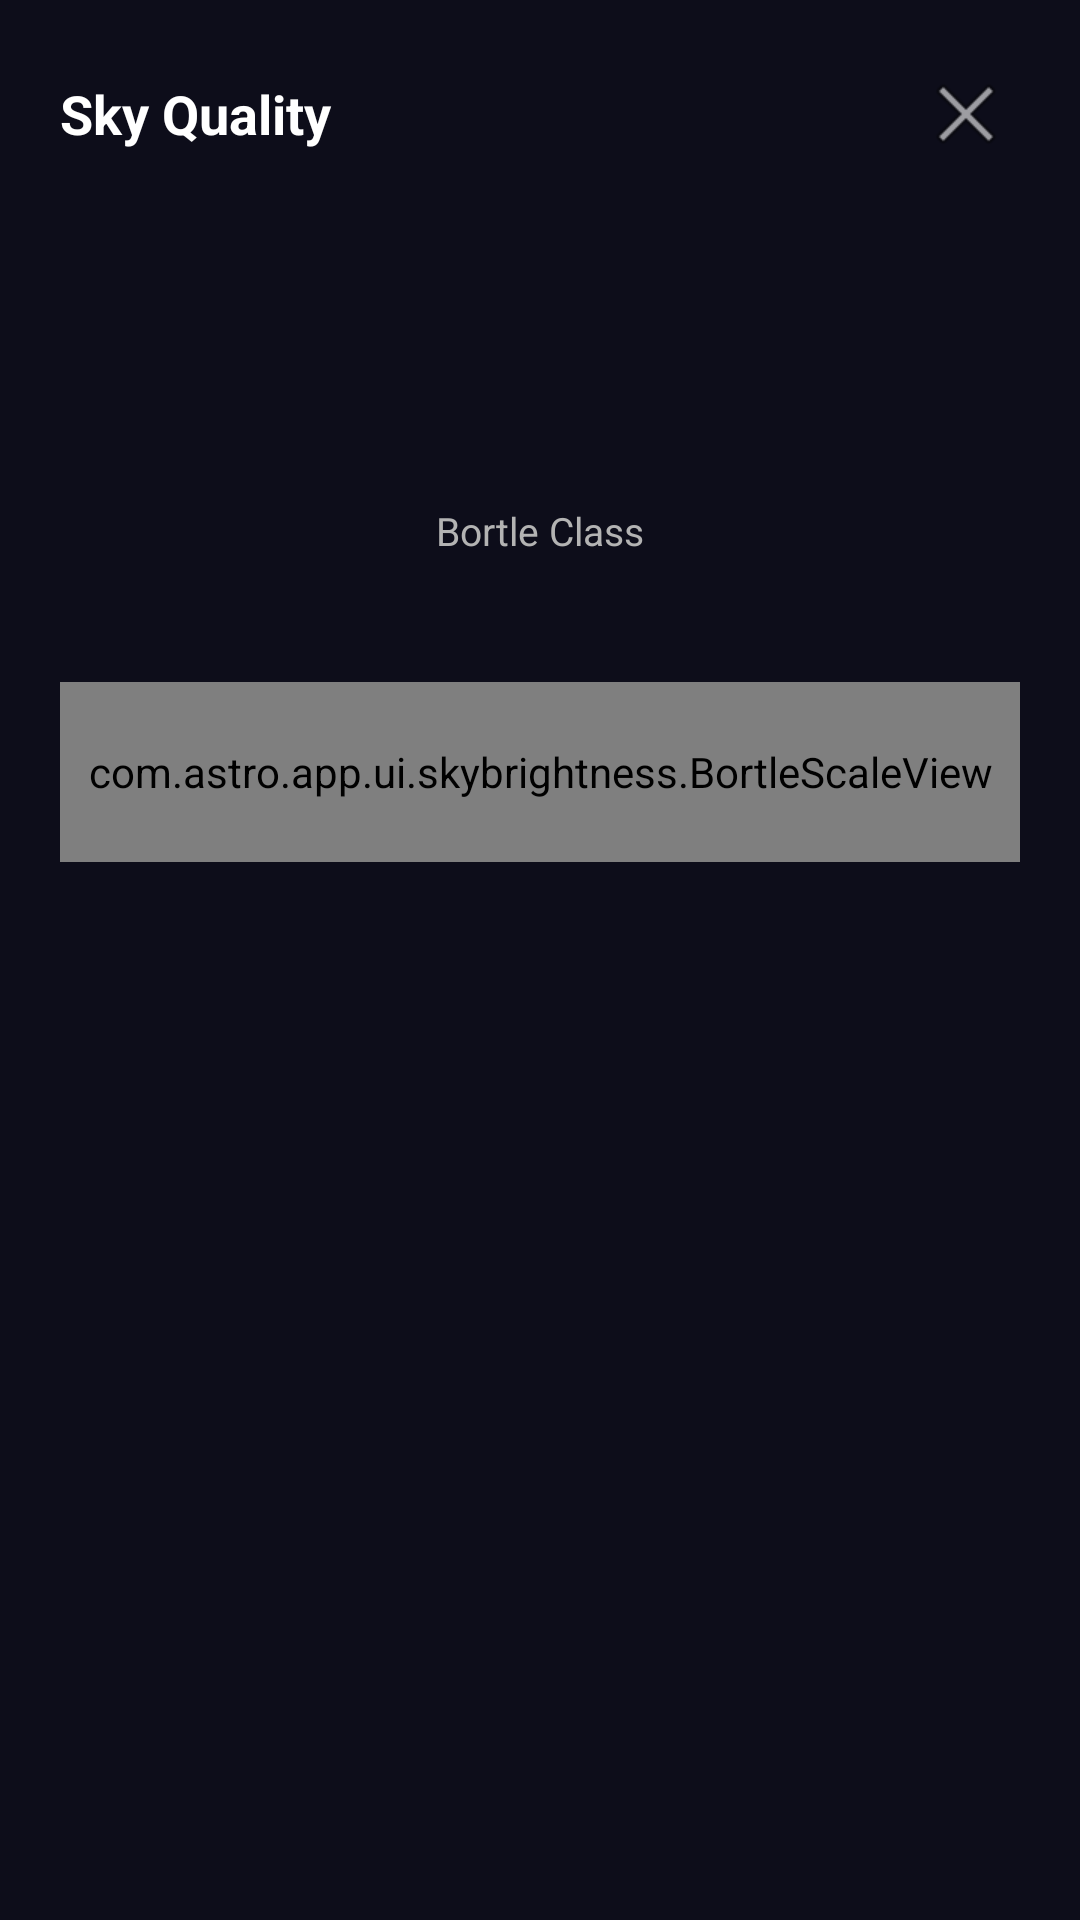

Screen size 1080w x 1920h. Icon name, then its center in pixels as [x,y]:
Close: [966,114]
